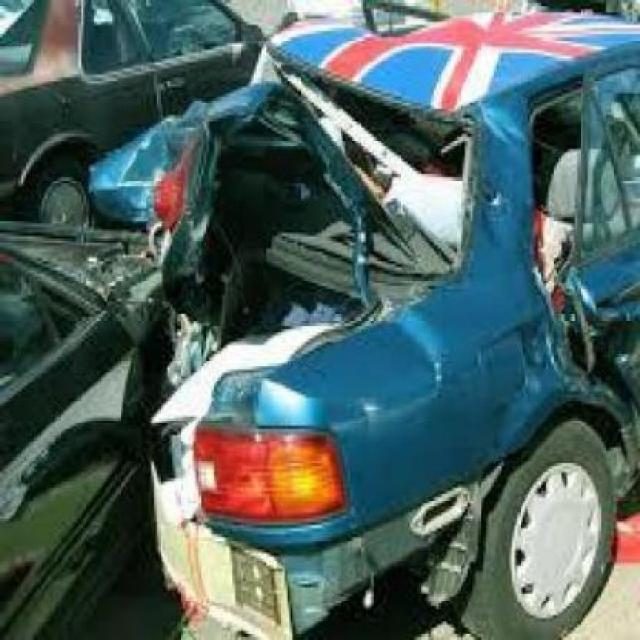damage: (91, 49, 637, 640)
